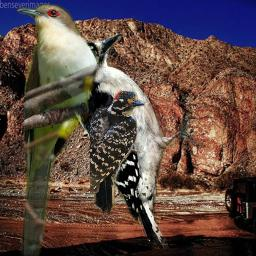Cuckoo: (15, 3, 101, 256)
Woodpecker: (53, 33, 210, 249), (90, 89, 145, 217)
